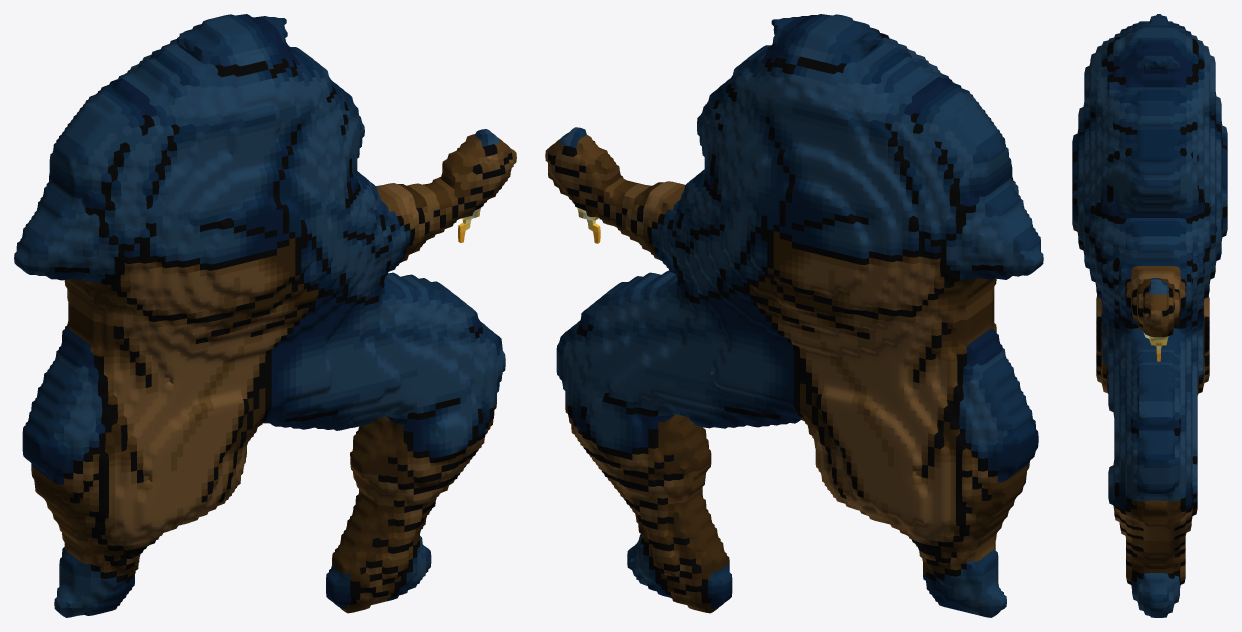
The model's file is Fight_705_2_05.obj.
3 views of the same model, side by side, from view 1: azimuth 30°, elevation 25°; view 2: azimuth 150°, elevation 25°; view 3: azimuth 270°, elevation 25° (orthographic). The views are drawn at different scales.
Bounding box in the file's own units: 8.1 × 9.6 × 2.6.
1 material, 1 textured.
